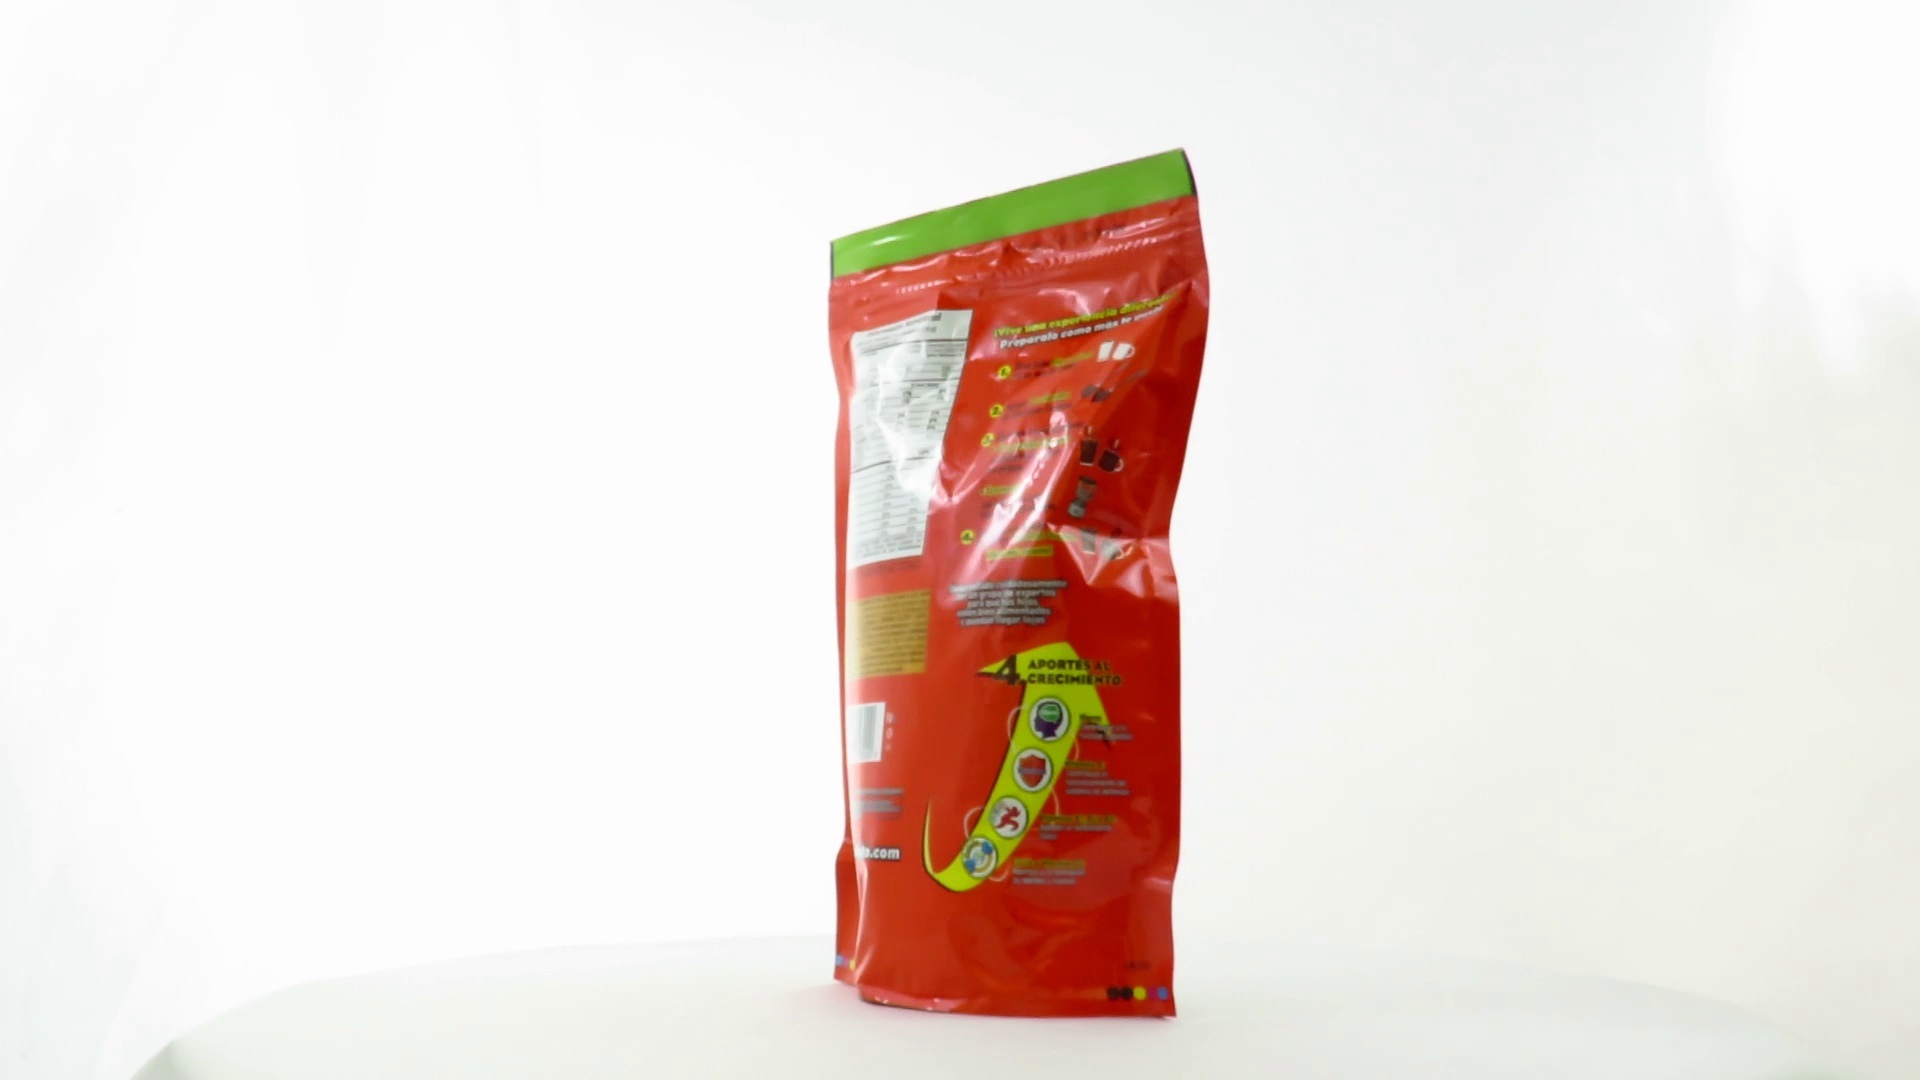COL0170102DYP50000: (823, 142, 1216, 1025)
